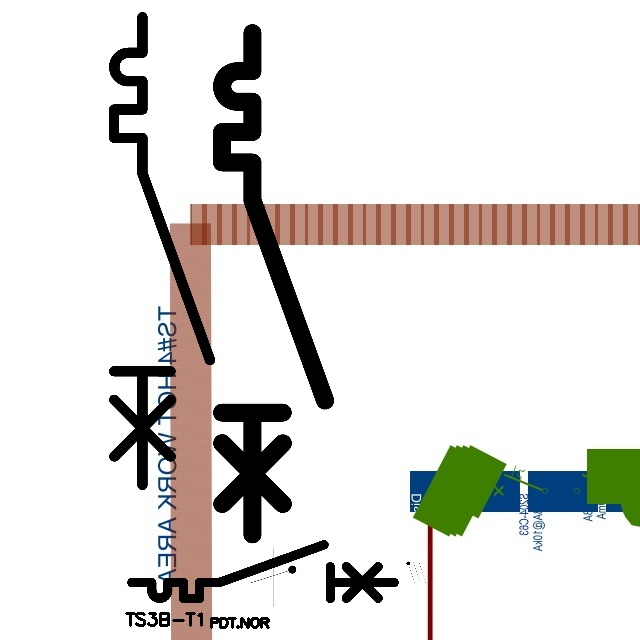interruptor_termomagnetico: (209, 20, 338, 547), (102, 5, 222, 497), (125, 538, 400, 605)
